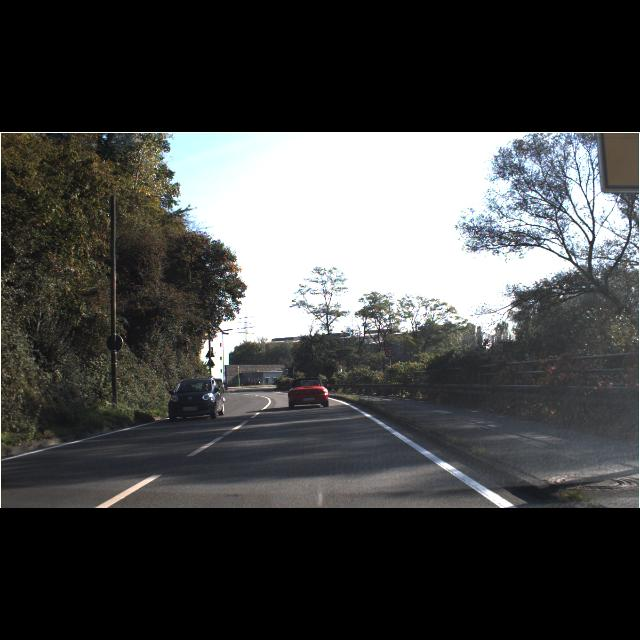prohibitory: (384, 348, 394, 358)
